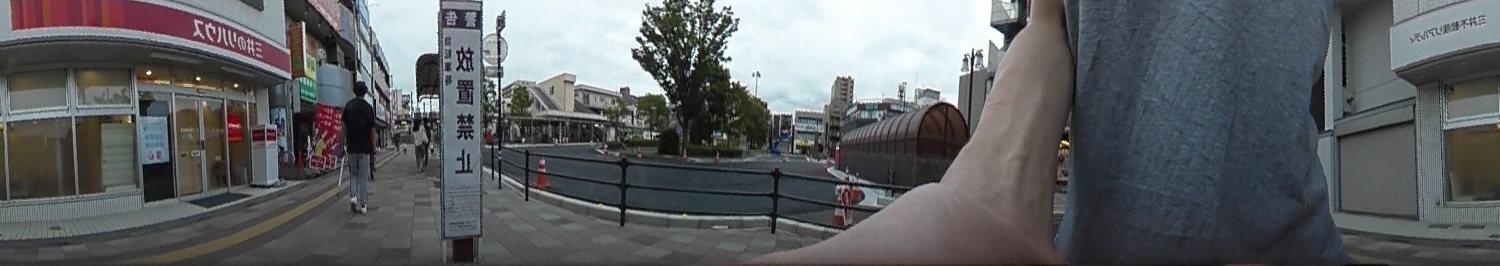difficult_person: (421, 114, 431, 164)
person: (336, 79, 376, 214), (409, 111, 426, 169)
